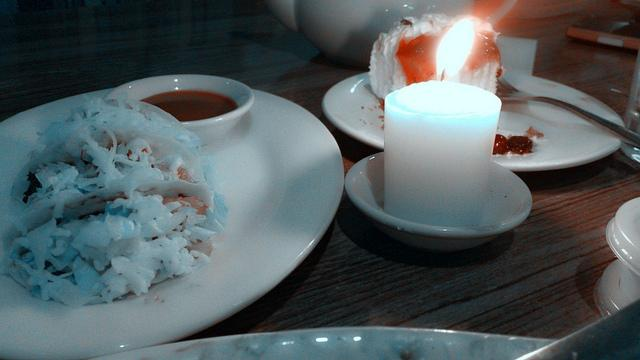cherry: (508, 136, 533, 153), (492, 134, 510, 154)
